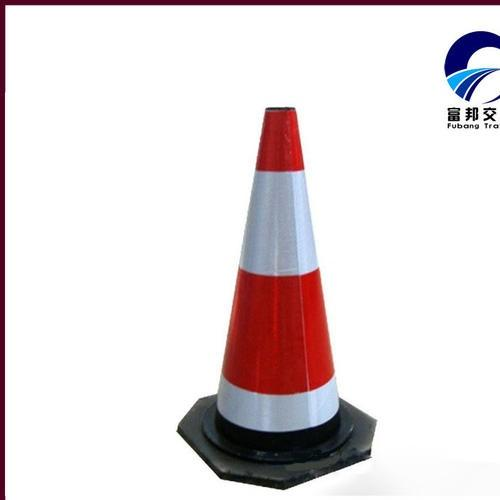cone_barrel: (199, 115, 359, 460)
